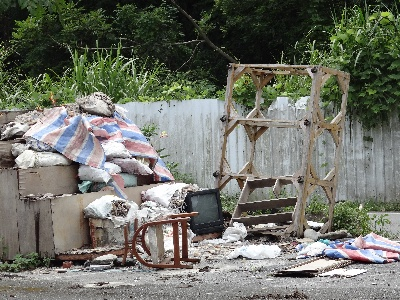plastic_bag: (21, 91, 178, 183), (295, 227, 400, 265), (227, 243, 283, 262)
